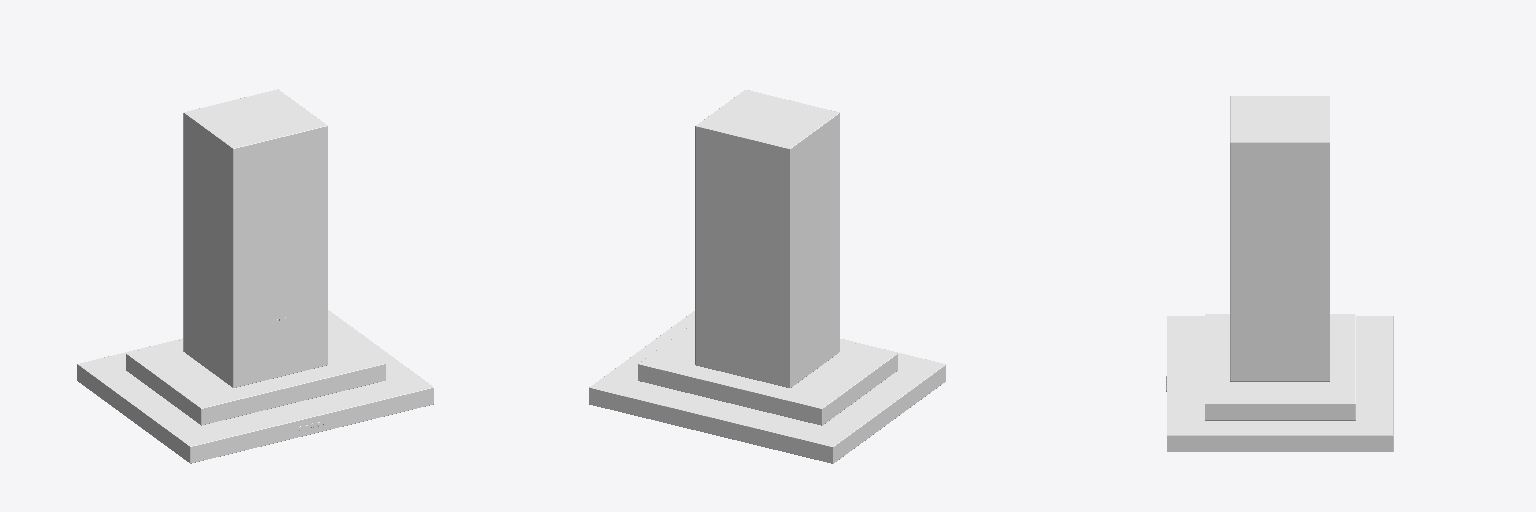
File: vent.obj
3 renders of one model, left to right at view 1: azimuth 30°, elevation 25°; view 2: azimuth 150°, elevation 25°; view 3: azimuth 270°, elevation 25°, orthographic.
Visible parts, largest first — view 1: vent; view 2: vent; view 3: vent.
Part boxes in pixels (x1,y1,x2,y2): vent: (77,89,433,463); vent: (589,90,945,463); vent: (1166,96,1393,451).
Bounding box in the file's own units: 0.9821 × 1.05 × 0.7913.